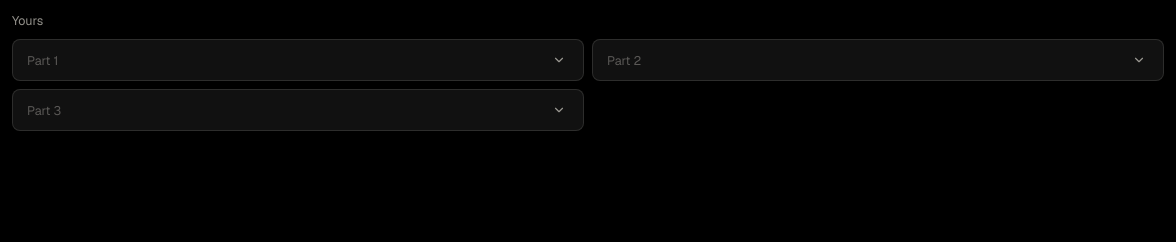
Test: BuildPicker › prices each part at its share, and says nothing for a free choice
What coordinates should you click on to do the following:
click the dropdown named "Yours, part 3"
I would click on:
 (298, 110)
Its box is [13, 90, 583, 130].
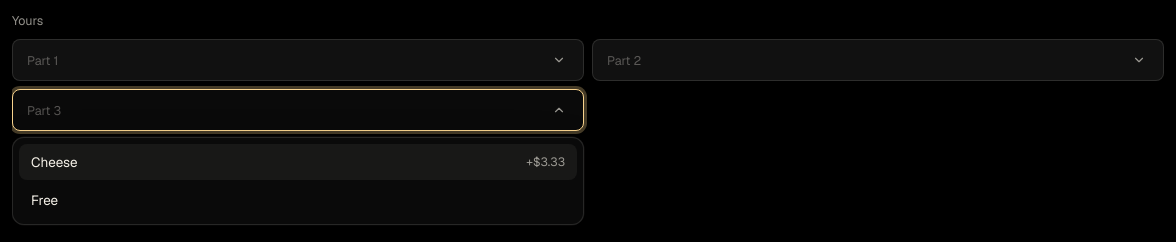
Result: the option "Cheese +$3.33" is shown at [19, 144, 577, 180]
Result: the option "Free" is shown at [31, 191, 58, 209]
